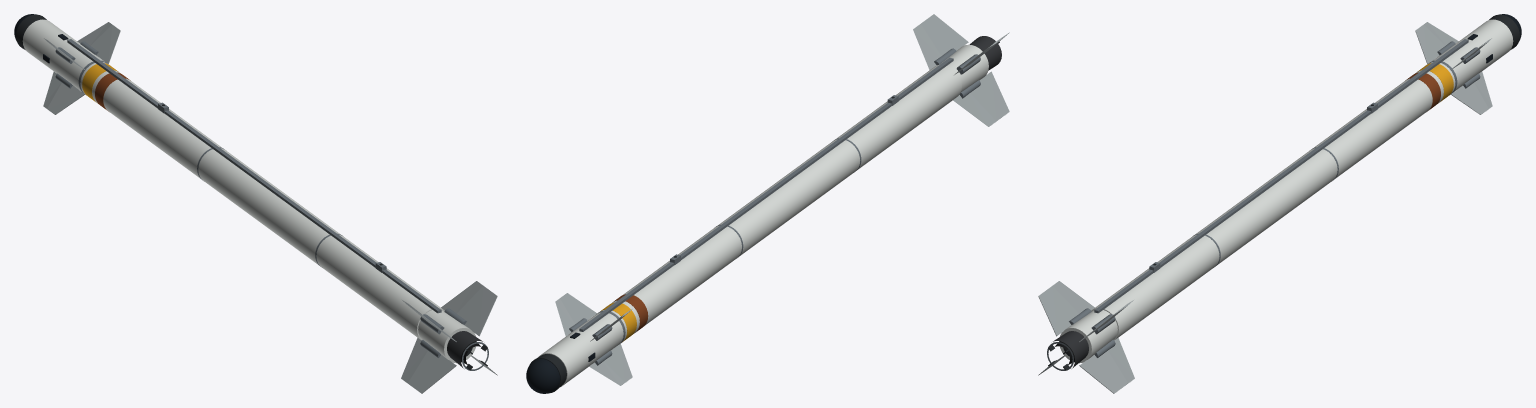
File: aim-9x.glb
The picture shows the model from 3 angles, left to right: view 1: azimuth 30°, elevation 25°; view 2: azimuth 150°, elevation 25°; view 3: azimuth 330°, elevation 25°; orthographic projection.
Parts seen in each view (by area): view 1: AIM9X_missile-body, AIM9X_missile-fin, AIM9X_missile-steel, AIM9X_missile-nozzle, AIM9X_missile-dark, AIM9X_missile-band-yellow; view 2: AIM9X_missile-body, AIM9X_missile-fin, AIM9X_missile-steel, AIM9X_missile-glass, AIM9X_missile-nozzle, AIM9X_missile-band-yellow; view 3: AIM9X_missile-body, AIM9X_missile-fin, AIM9X_missile-steel, AIM9X_missile-nozzle, AIM9X_missile-dark, AIM9X_missile-band-yellow.
Part boxes in pixels (bbox=[...]): AIM9X_missile-body: bbox=[22, 19, 476, 363]; AIM9X_missile-fin: bbox=[43, 22, 497, 393]; AIM9X_missile-steel: bbox=[55, 39, 488, 370]; AIM9X_missile-nozzle: bbox=[447, 331, 482, 368]; AIM9X_missile-dark: bbox=[16, 14, 487, 370]; AIM9X_missile-band-yellow: bbox=[82, 63, 118, 102]; AIM9X_missile-body: bbox=[538, 44, 988, 387]; AIM9X_missile-fin: bbox=[555, 14, 1009, 385]; AIM9X_missile-steel: bbox=[569, 48, 980, 365]; AIM9X_missile-glass: bbox=[526, 332, 595, 393]; AIM9X_missile-nozzle: bbox=[969, 36, 1001, 70]; AIM9X_missile-band-yellow: bbox=[600, 302, 636, 342]; AIM9X_missile-body: bbox=[1059, 19, 1513, 363]; AIM9X_missile-fin: bbox=[1038, 22, 1492, 393]; AIM9X_missile-steel: bbox=[1047, 39, 1480, 370]; AIM9X_missile-nozzle: bbox=[1053, 331, 1088, 368]; AIM9X_missile-dark: bbox=[1048, 14, 1519, 370]; AIM9X_missile-band-yellow: bbox=[1417, 63, 1453, 102].
Bounding box in the file's own units: 0.2961 × 0.2961 × 3.04.
